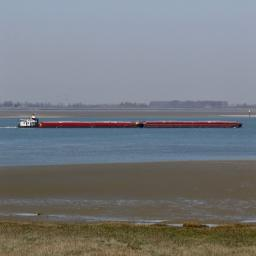tugboat: (16, 113, 42, 132)
